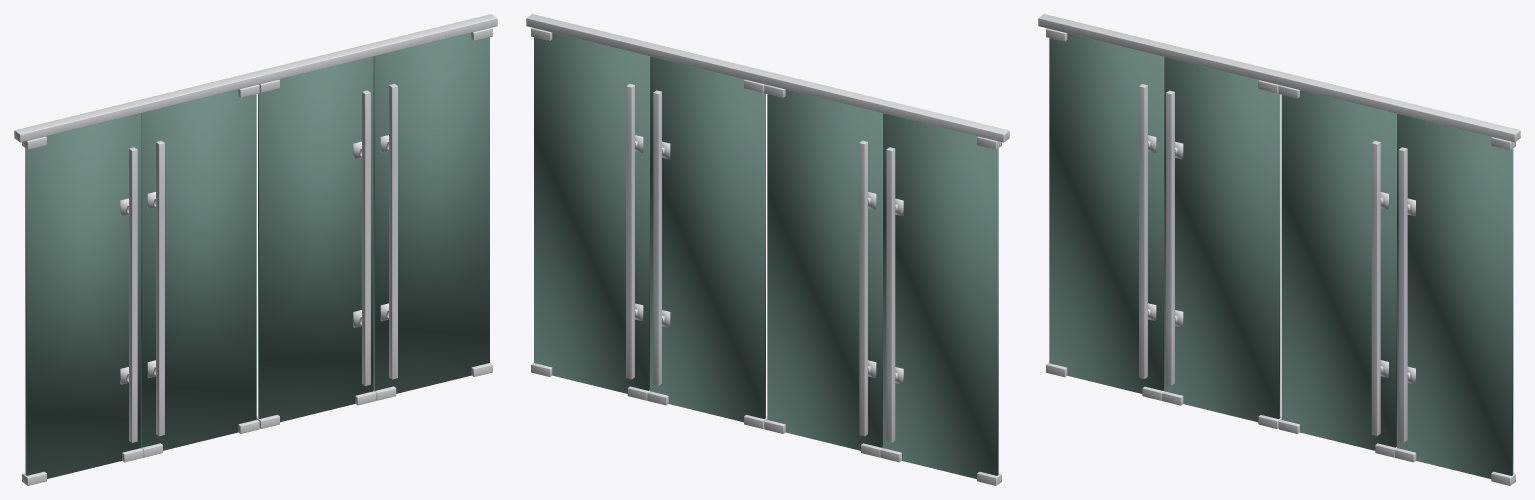
File: Glass-Door.glb
The picture shows the model from 3 angles, left to right: view 1: azimuth 30°, elevation 25°; view 2: azimuth 150°, elevation 25°; view 3: azimuth 330°, elevation 25°; orthographic projection.
Visible parts, largest first — view 1: Object004, ChamferBox002, ChamferBox001, ChamferBox003; view 2: Object004, ChamferBox002, ChamferBox001, ChamferBox003; view 3: Object004, ChamferBox002, ChamferBox001, ChamferBox003.
Part boxes in pixels (x1=…): Object004: x1=25, y1=33, x2=489, y2=478; ChamferBox002: x1=120, y1=84, x2=397, y2=442; ChamferBox001: x1=14, y1=14, x2=497, y2=142; ChamferBox003: x1=22, y1=27, x2=492, y2=485; Object004: x1=534, y1=32, x2=998, y2=478; ChamferBox002: x1=626, y1=83, x2=903, y2=442; ChamferBox001: x1=526, y1=14, x2=1009, y2=142; ChamferBox003: x1=531, y1=27, x2=1001, y2=485; Object004: x1=1049, y1=33, x2=1513, y2=478; ChamferBox002: x1=1139, y1=84, x2=1415, y2=442; ChamferBox001: x1=1038, y1=14, x2=1520, y2=142; ChamferBox003: x1=1046, y1=28, x2=1515, y2=485.
Bounding box in the file's own units: 123 × 87.1 × 7.57.
